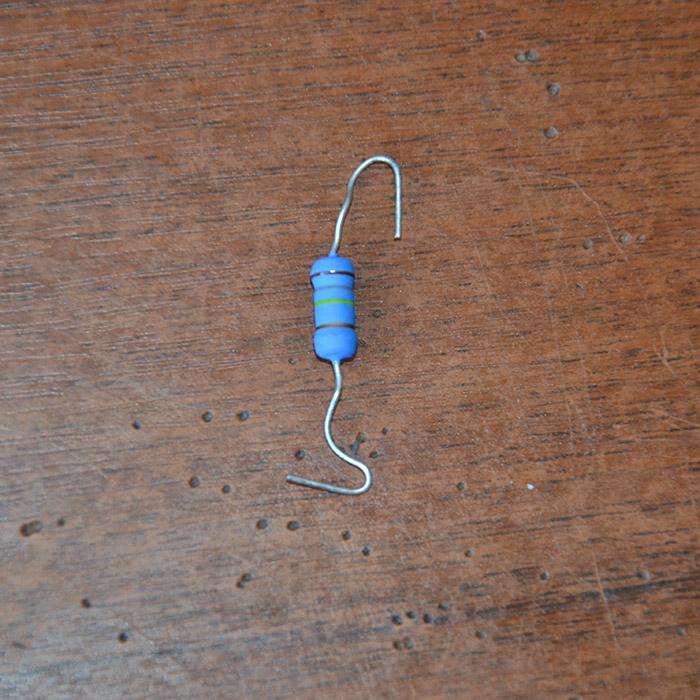resistor: (309, 252, 358, 361)
